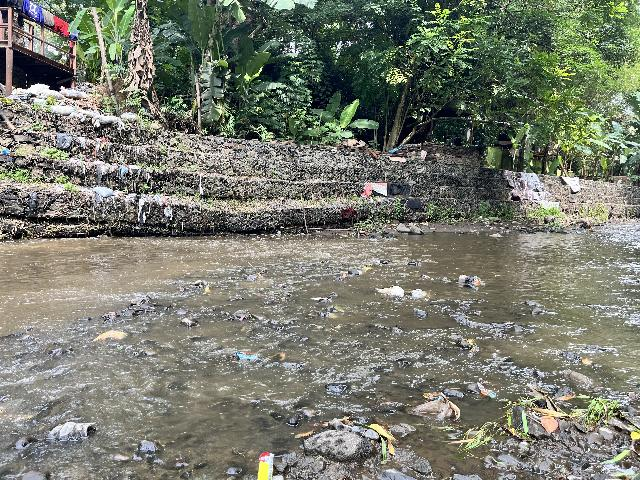Sampah Anorganik: (396, 394, 459, 423), (252, 446, 280, 480), (453, 269, 486, 293), (231, 347, 268, 368), (472, 378, 498, 403)
